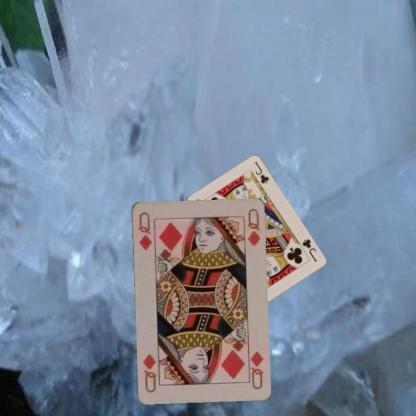Jc: (299, 236, 318, 263)
Qd: (244, 346, 264, 390), (135, 209, 153, 251)
